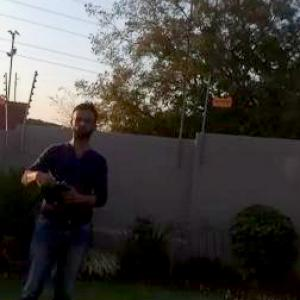follow: (6, 90, 113, 299)
